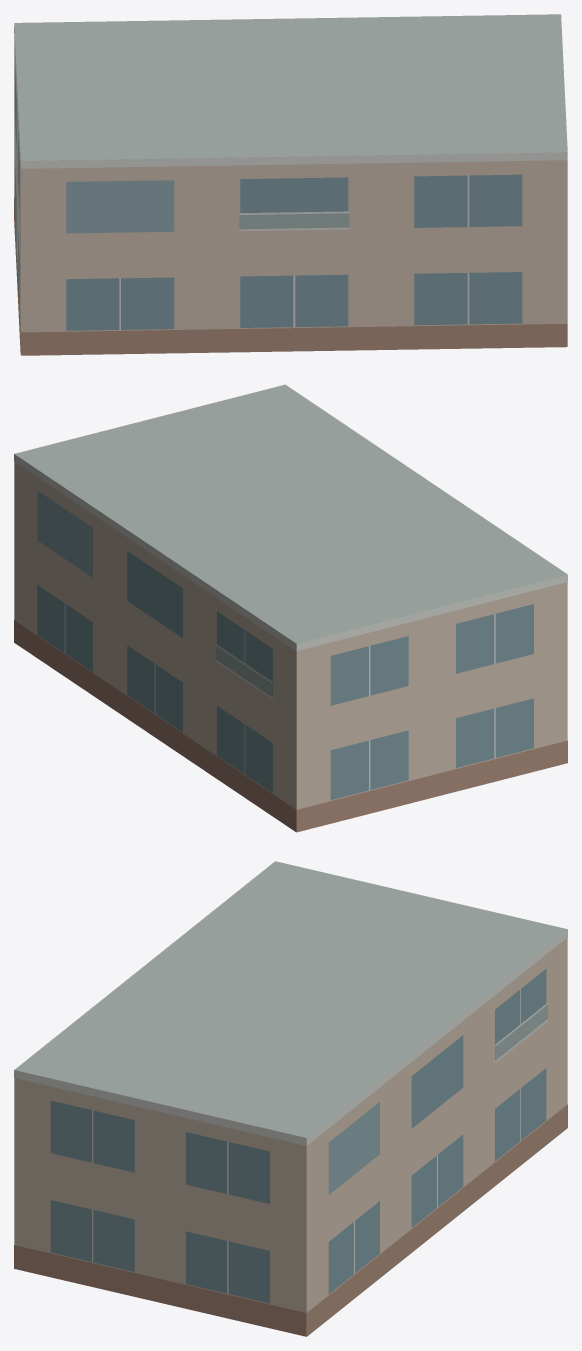
Rendered from survey-upis-32777901.glb.
3 views of the same model, one above another, from view 1: azimuth 30°, elevation 25°; view 2: azimuth 150°, elevation 25°; view 3: azimuth 270°, elevation 25° (orthographic). The views are drawn at different scales.
Parts seen in each view (by area): view 1: survey-upis-32777901.tmp; view 2: survey-upis-32777901.tmp; view 3: survey-upis-32777901.tmp.
Boxes of the visible parts, box(x1,y1,x2,y2) form: survey-upis-32777901.tmp: box(14, 14, 567, 355); survey-upis-32777901.tmp: box(14, 384, 567, 832); survey-upis-32777901.tmp: box(14, 861, 567, 1336).
Size of the model in its own units: 18.24 by 6.1 by 15.41.
